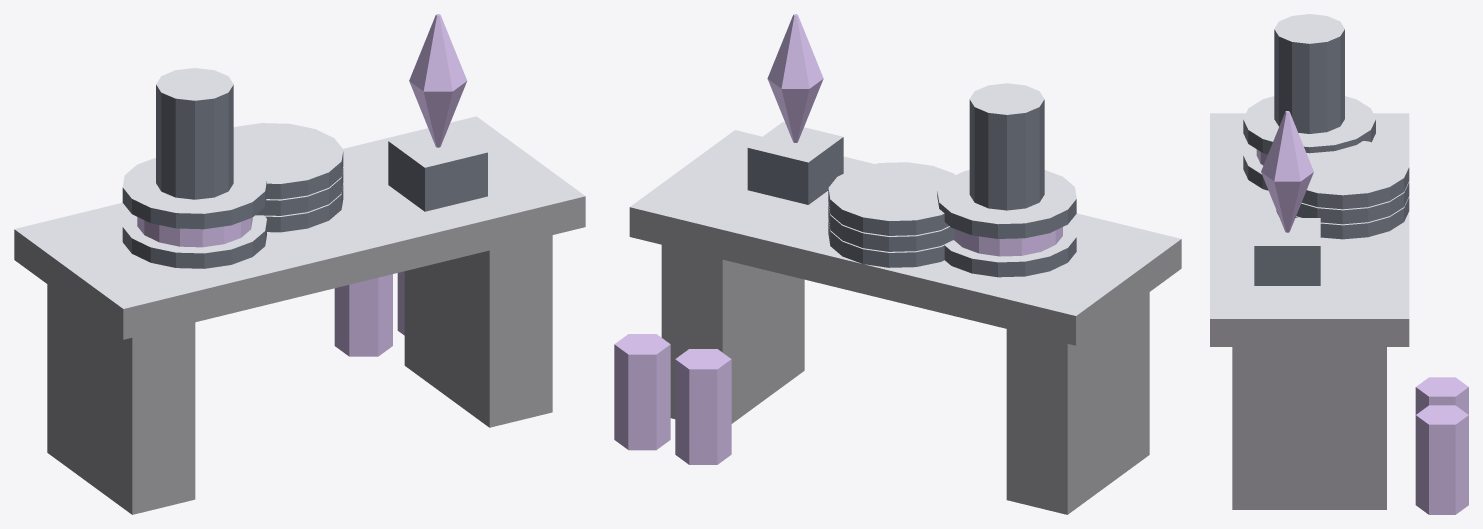
Rendered from PR_Bancada_Cristal.fbx.
The picture shows the model from 3 angles, left to right: view 1: azimuth 30°, elevation 25°; view 2: azimuth 150°, elevation 25°; view 3: azimuth 270°, elevation 25°; orthographic projection. The views are drawn at different scales.
Parts seen in each view (by area): view 1: PR_Bancada_Cristal; view 2: PR_Bancada_Cristal; view 3: PR_Bancada_Cristal.
Boxes of the visible parts, x1=… form: PR_Bancada_Cristal: x1=14, y1=14, x2=585, y2=514; PR_Bancada_Cristal: x1=614, y1=14, x2=1181, y2=514; PR_Bancada_Cristal: x1=1210, y1=14, x2=1468, y2=514.
Size of the model in its own units: 2.2 by 1.8 by 1.17.
